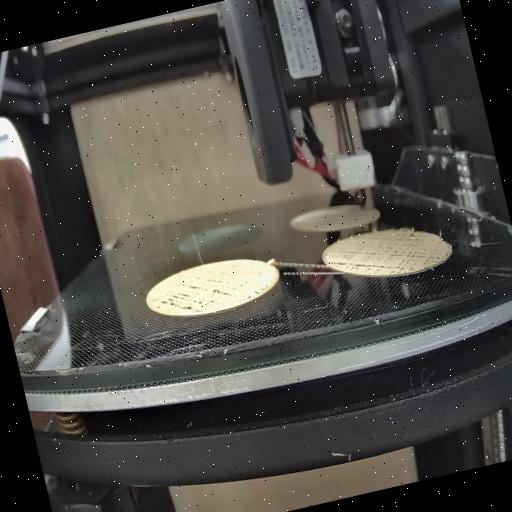under_extrusion: (150, 266, 270, 320), (325, 224, 434, 282)
